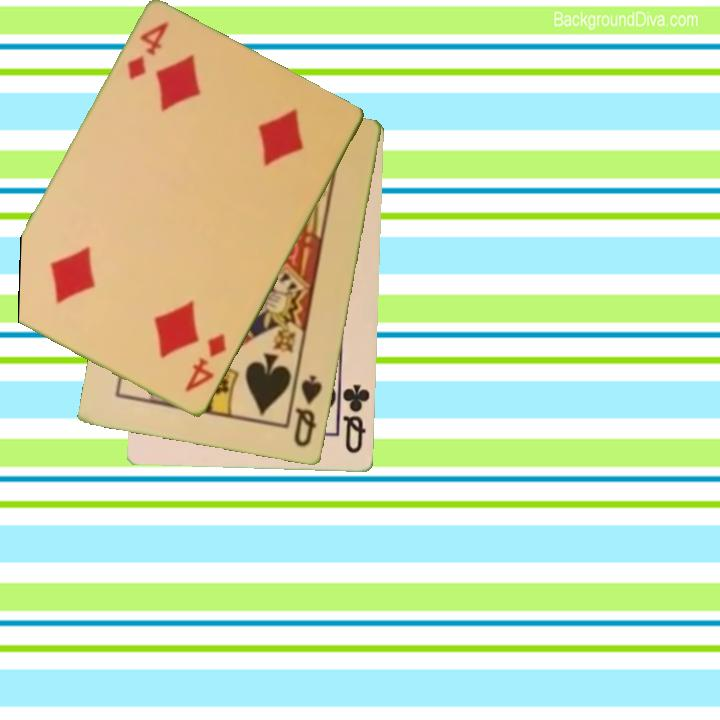4d: (181, 330, 230, 396), (124, 18, 172, 84)
Qc: (337, 378, 373, 457)
Qs: (290, 372, 326, 451)
